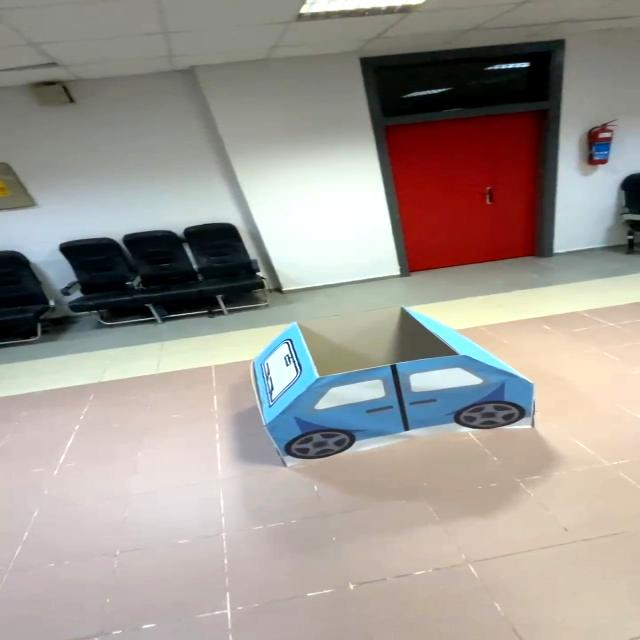blue_car: (207, 294, 571, 468)
